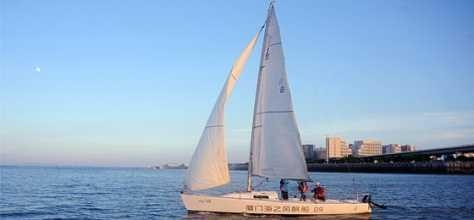fanchuan: (173, 1, 370, 213)
